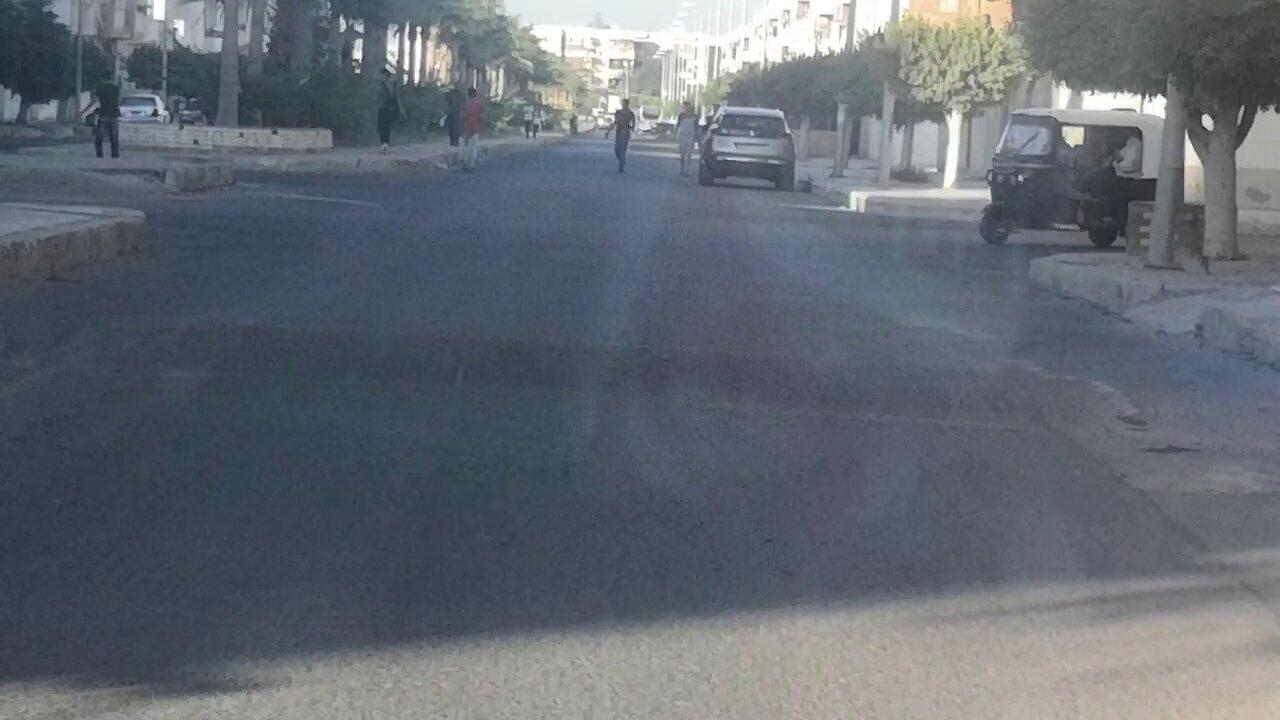Bump: (133, 303, 1108, 447)
